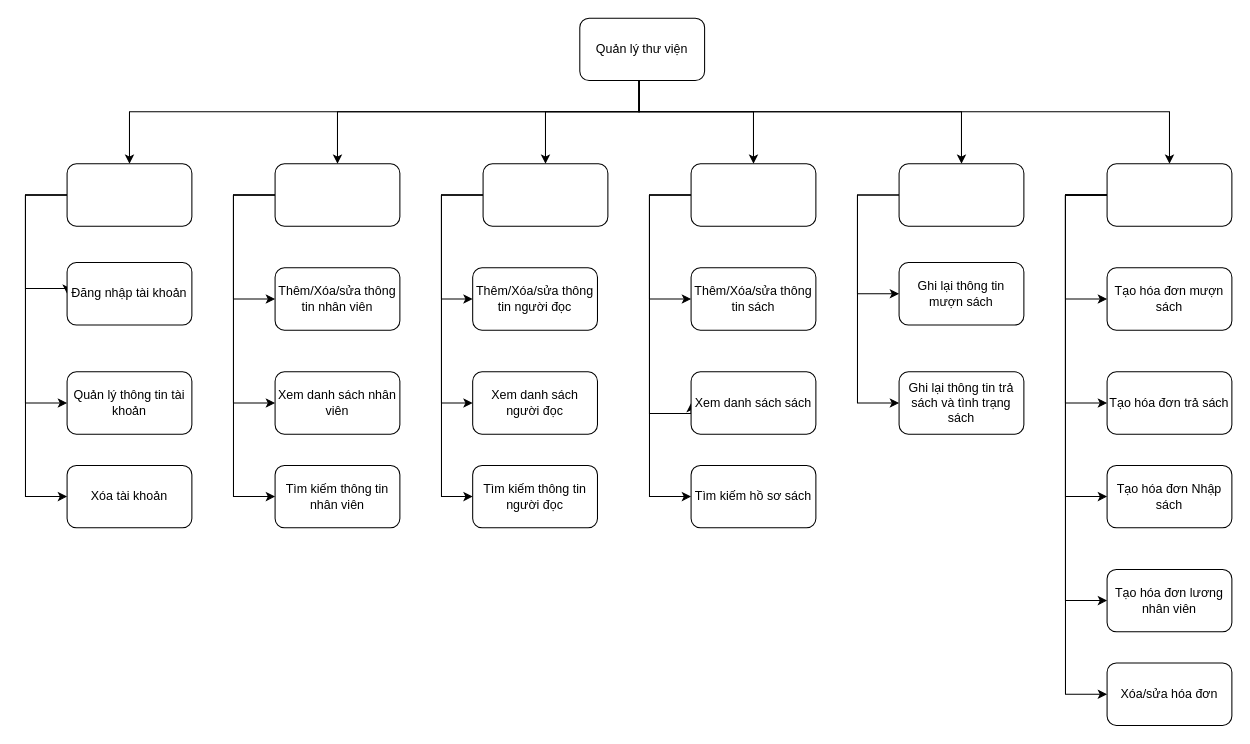
Image size: 1250x744. Some labels were removed from this diagram. The shapes that lost their labels are listed below. From the top down, each one's box as (x1, y1, x2, y2) in pixels, then its label:
(66, 163, 192, 226): Quản lý tài khoản nhân viên
(274, 163, 400, 226): Quản lý nhân viên
(482, 163, 608, 226): Quản lý danh sách người đọc
(690, 163, 816, 226): Quản lý danh sách sách
(898, 163, 1024, 226): Quản lý mượn trả sách
(1106, 163, 1232, 226): Quản lý hóa đơn
